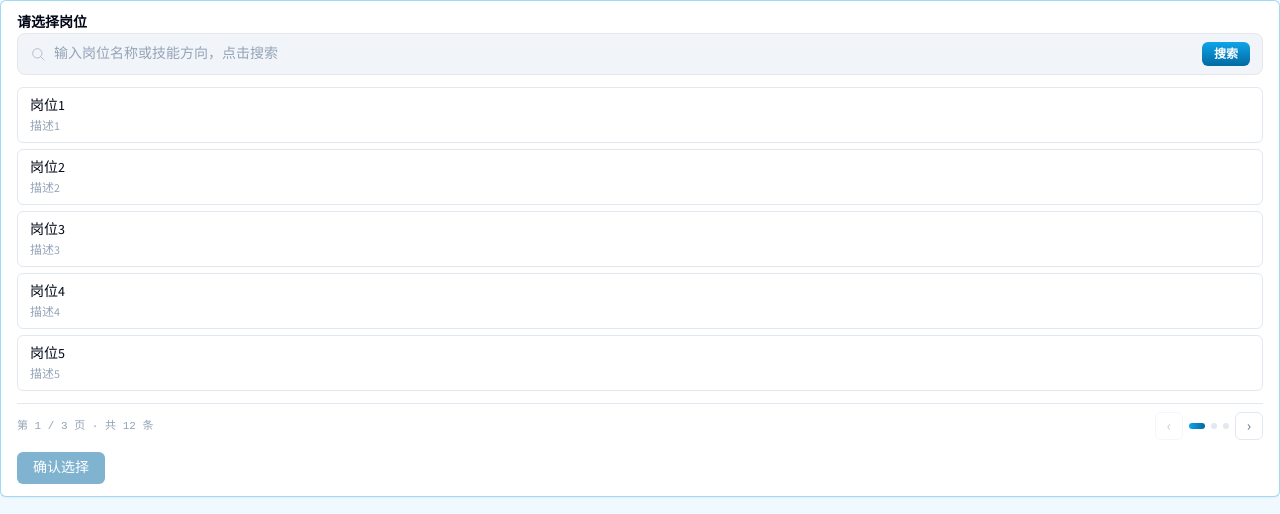
Test: JobSelection 分页+手动搜索 › 翻页：点下一页展示第 2 页
The image size is (1280, 514).
Click the button named "下一页".
click(1249, 426)  # box top-left (1235, 412), bottom-right (1263, 440)
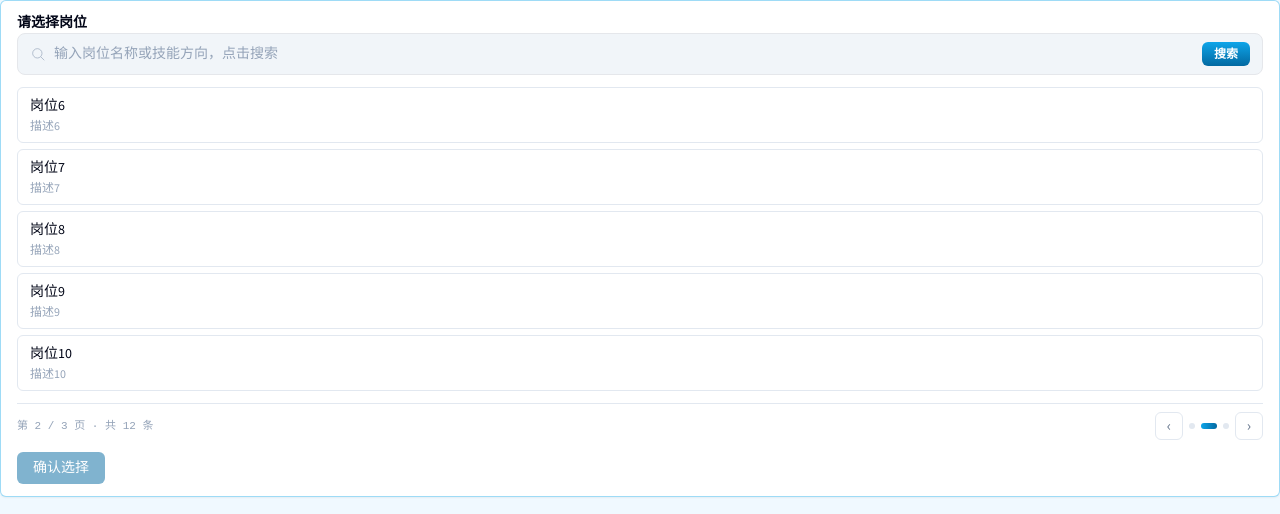
Expected: the button "岗位6 描述6" is shown, top-left (17, 87), bottom-right (1263, 143)
